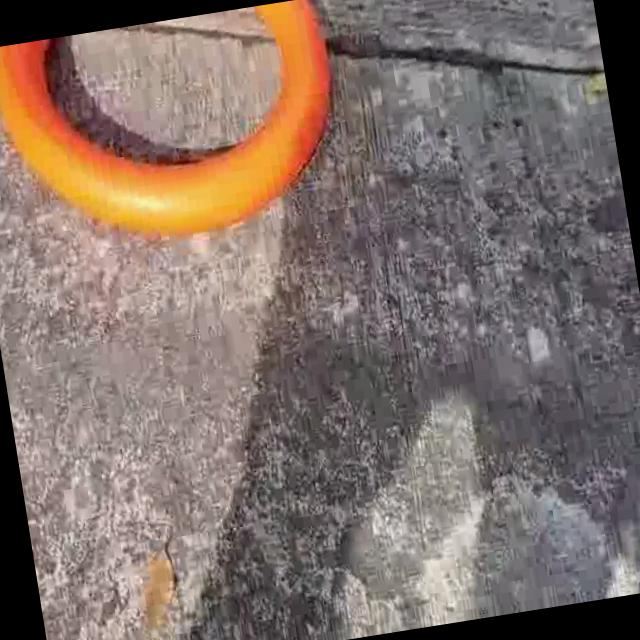note: (0, 0, 360, 272)
